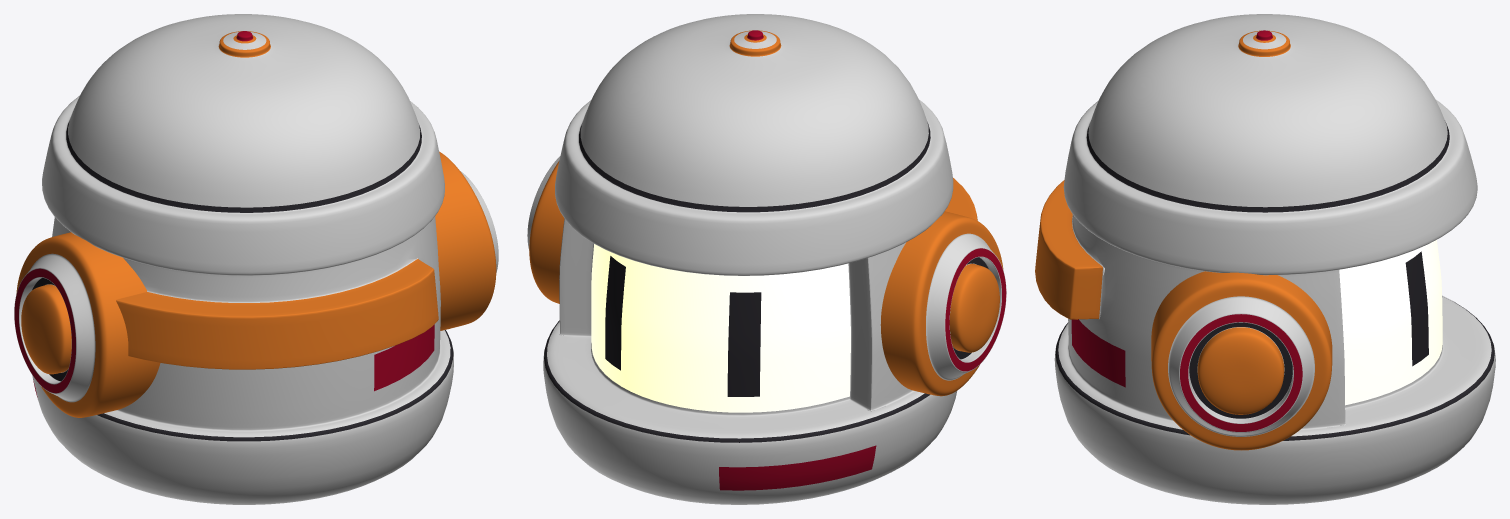
Rendered from robo.gltf.
The picture shows the model from 3 angles, left to right: view 1: azimuth 30°, elevation 25°; view 2: azimuth 150°, elevation 25°; view 3: azimuth 270°, elevation 25°; orthographic projection.
Visible parts, largest first — view 1: head; view 2: head; view 3: head.
Part boxes in pixels (left/top/right/bottom): head: left=14, top=14, right=498, bottom=504; head: left=527, top=14, right=1006, bottom=504; head: left=1035, top=14, right=1495, bottom=504.
Size of the model in its own units: 3.32 by 2.95 by 3.01.
